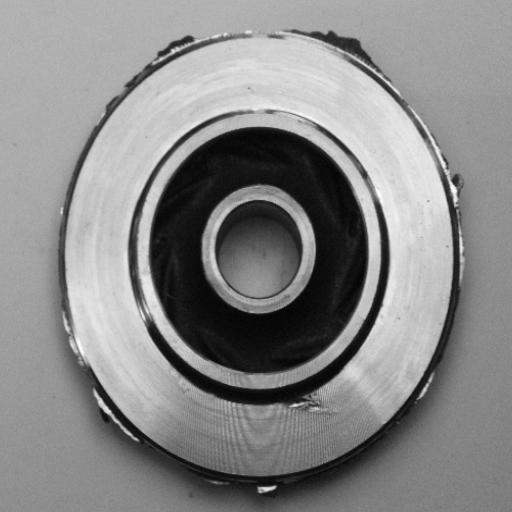casting_with_burr: (53, 24, 468, 500)
crack: (274, 386, 348, 423)
scratch: (235, 99, 324, 129)
